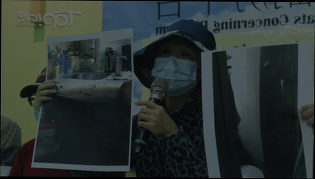with_mask: (150, 45, 201, 96)
